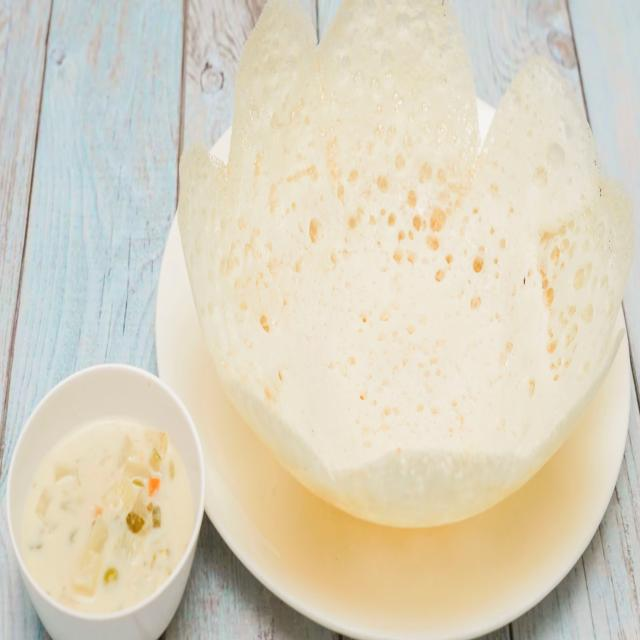IDIYAPPAM: (175, 0, 632, 528)
SWEET: (18, 419, 193, 615)
